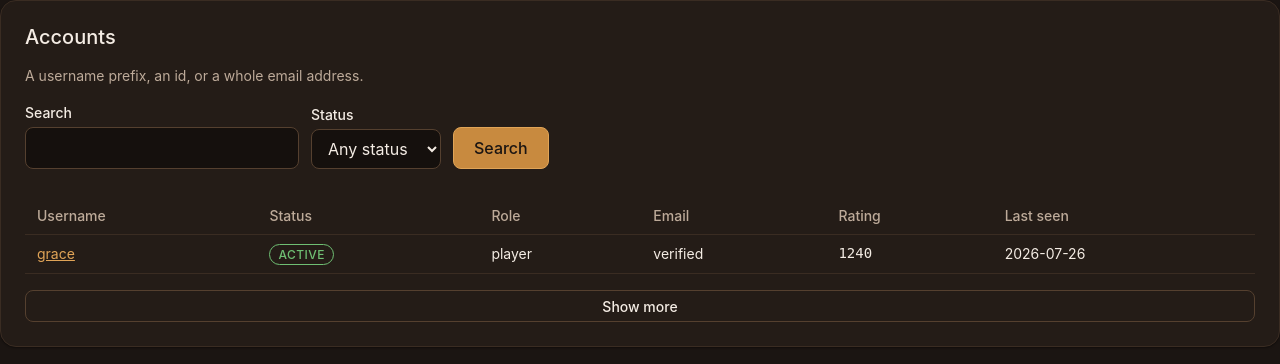
Test case: account search › shows another page only when the server offered one
Click the button with test id "admin-users-more". click: (640, 306)
box: [25, 290, 1255, 322]
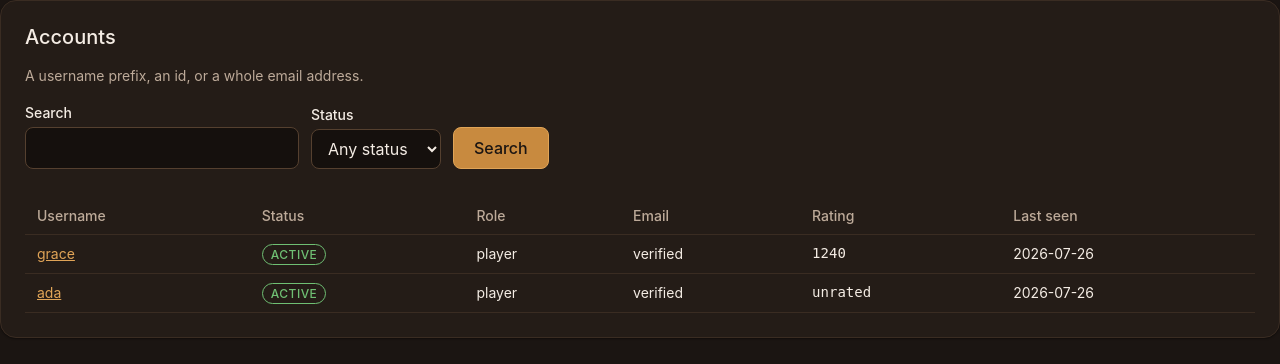
Result: the row with test id "admin-user-row-ada" is shown at [25, 274, 1255, 313]
Result: the text "unrated" is shown at [800, 274, 1001, 313]
Result: the button with test id "admin-users-more" is gone
